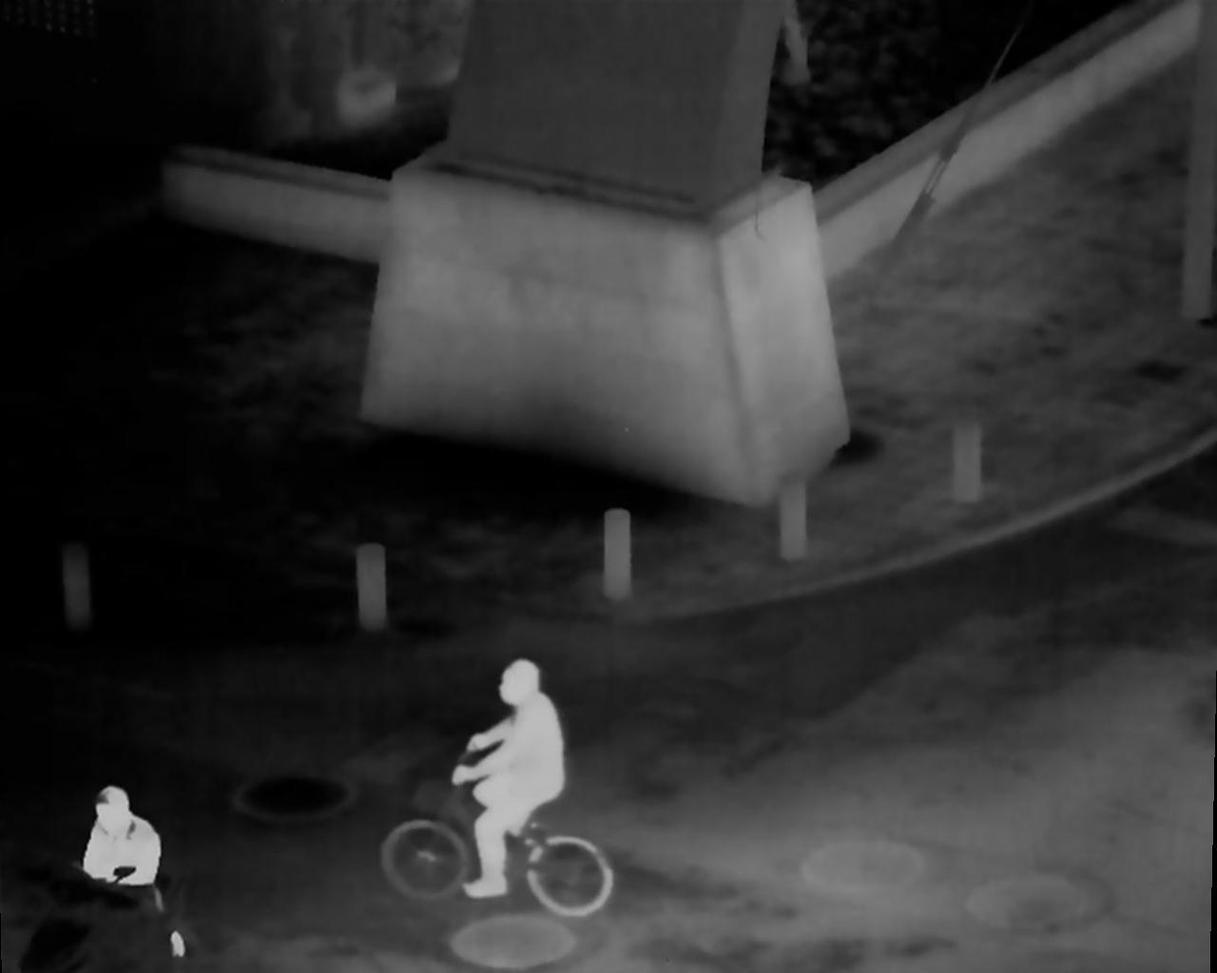person: (453, 660, 567, 911), (83, 790, 184, 954)
